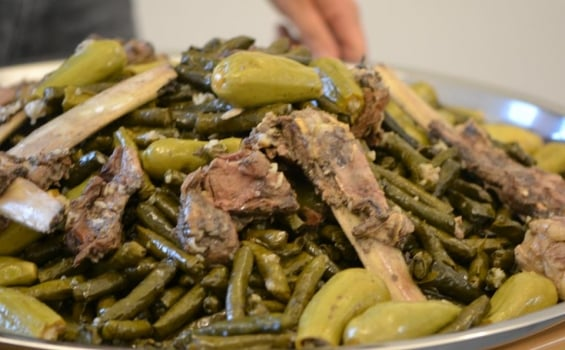pizza: (274, 1, 371, 66)
